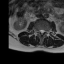CCS_normal: (40, 28, 42, 36)
LFS_stenosis: (45, 28, 47, 34)
LLS_normal: (42, 28, 44, 34)
RFS_stenosis: (37, 28, 39, 34)
RLS_stenosis: (39, 28, 40, 34)
